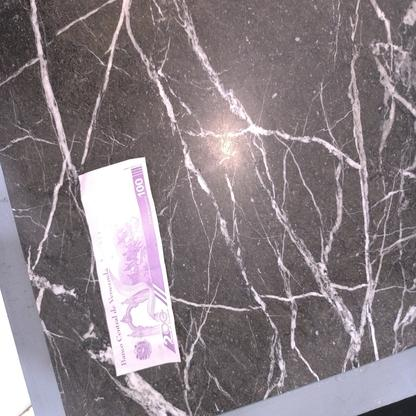vef_back: (78, 157, 182, 378)
